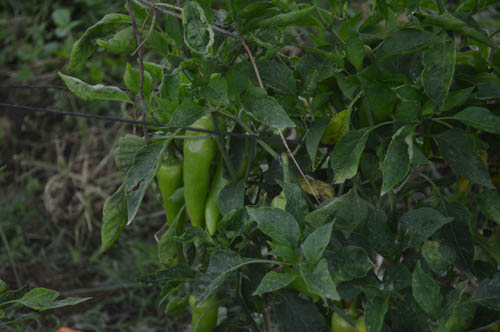ChiliPepper: (203, 153, 245, 240), (184, 117, 215, 230), (155, 164, 189, 231)
